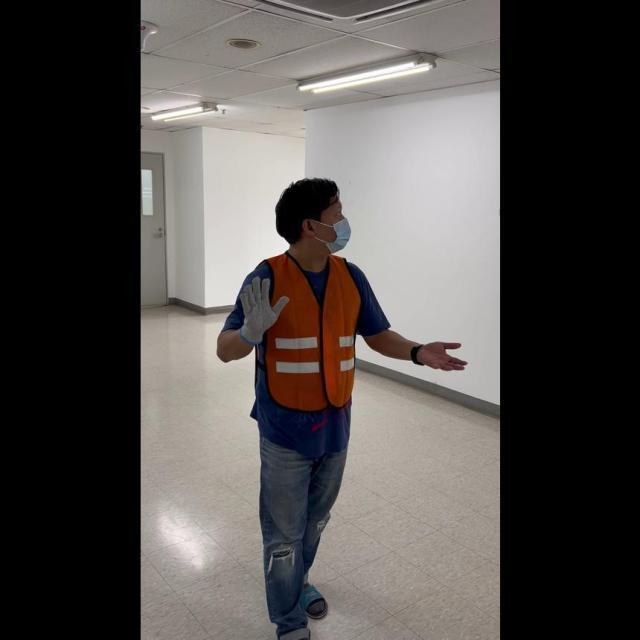bare_hand: (413, 337, 468, 374)
gloved_hand: (234, 275, 288, 340)
